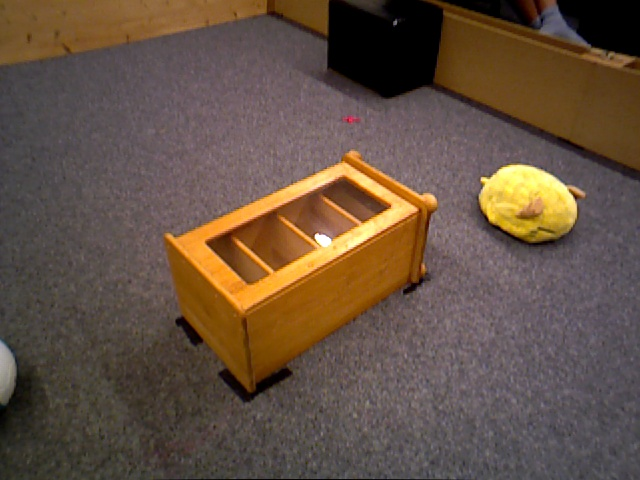grasp: (477, 164, 578, 246)
kick: (1, 341, 18, 415)
push: (329, 1, 443, 98)
